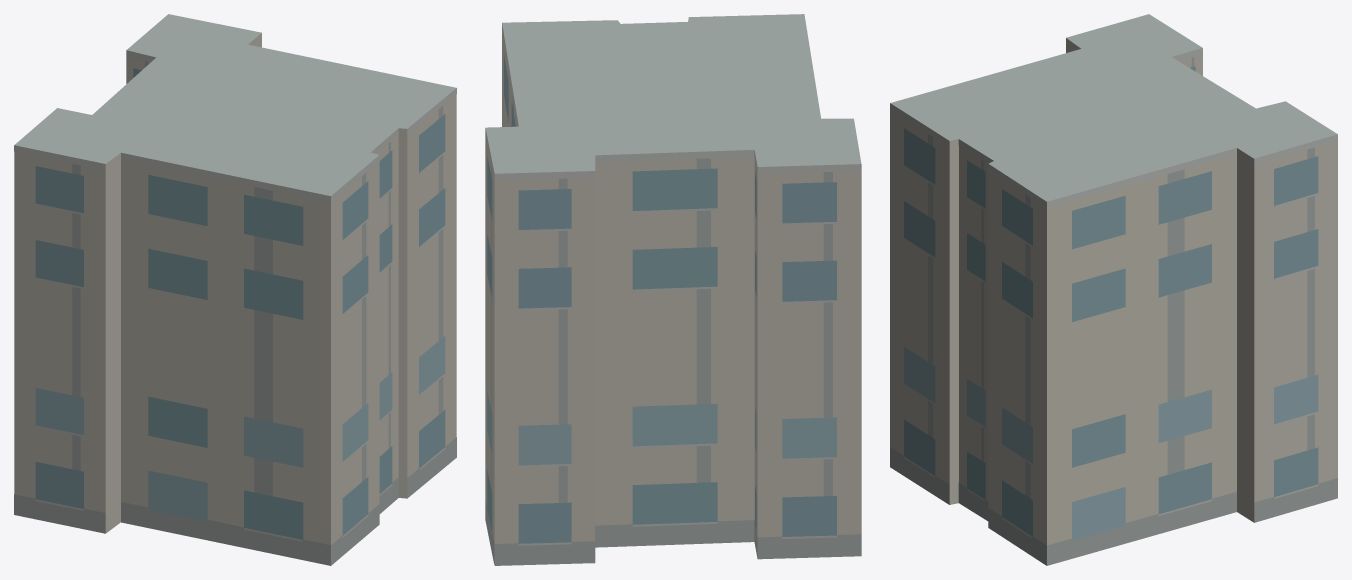
Rendered from survey-upis-32886919.glb.
3 renders of one model, left to right at view 1: azimuth 30°, elevation 25°; view 2: azimuth 150°, elevation 25°; view 3: azimuth 270°, elevation 25°, orthographic. The views are drawn at different scales.
Parts seen in each view (by area): view 1: survey-upis-32886919.tmp; view 2: survey-upis-32886919.tmp; view 3: survey-upis-32886919.tmp.
Part boxes in pixels (x1,y1,x2,y2): survey-upis-32886919.tmp: [14, 14, 456, 565]; survey-upis-32886919.tmp: [485, 14, 861, 565]; survey-upis-32886919.tmp: [890, 14, 1337, 565].
Size of the model in its own units: 15.11 by 13.65 by 15.22.
